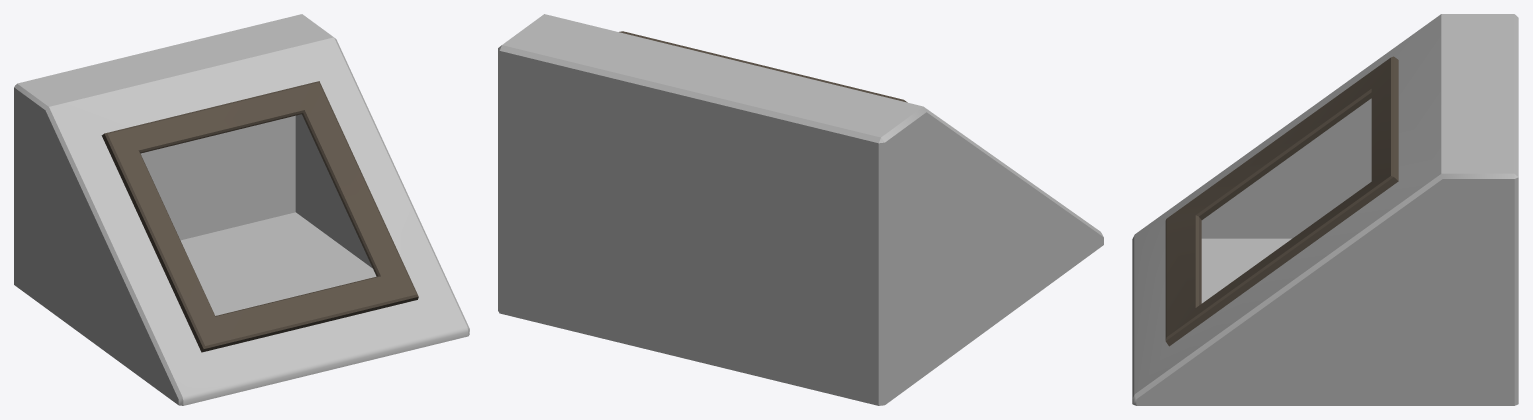
File: bunker.fbx
The picture shows the model from 3 angles, left to right: view 1: azimuth 30°, elevation 25°; view 2: azimuth 150°, elevation 25°; view 3: azimuth 270°, elevation 25°; orthographic projection. The views are drawn at different scales.
Visible parts, largest first — view 1: pCube4; view 2: pCube4; view 3: pCube4.
Boxes of the visible parts, left/top/right/bottom form: pCube4: left=14, top=14, right=469, bottom=405; pCube4: left=498, top=14, right=1103, bottom=405; pCube4: left=1132, top=14, right=1518, bottom=405.
Bounding box in the file's own units: 397 × 262 × 397.
